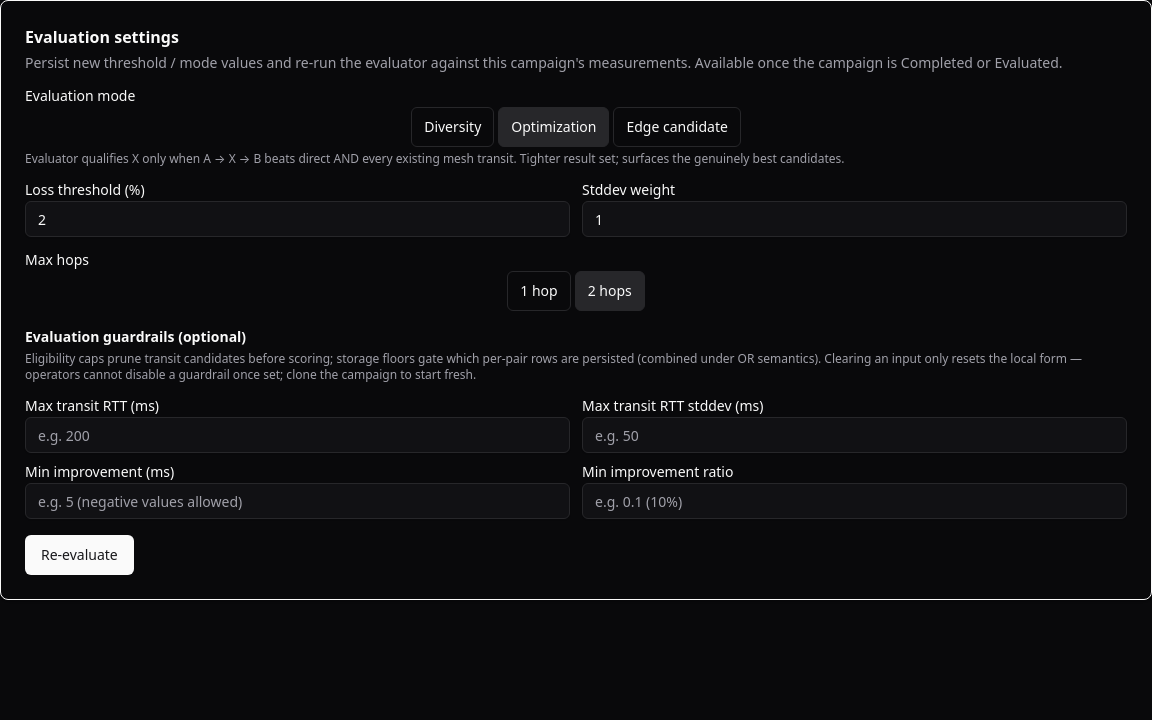
Test: SettingsTab — submit flow › surfaces a vm_upstream toast with the detail reason when VM is unreachable
Click the button "Re-evaluate". click: (79, 555)
box: 25,535 -> 134,575
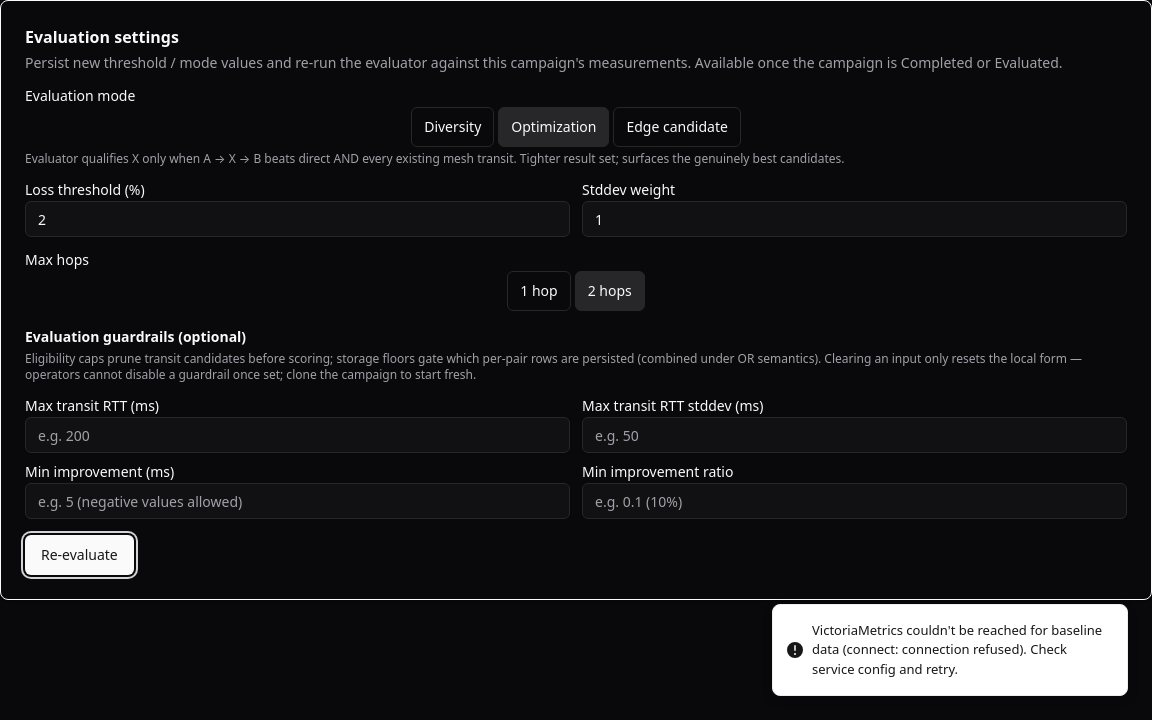
Result: the text "victoriametrics couldn't be reached for baseline data (connect: connection refused)" is shown at 812,620 -> 1102,678
